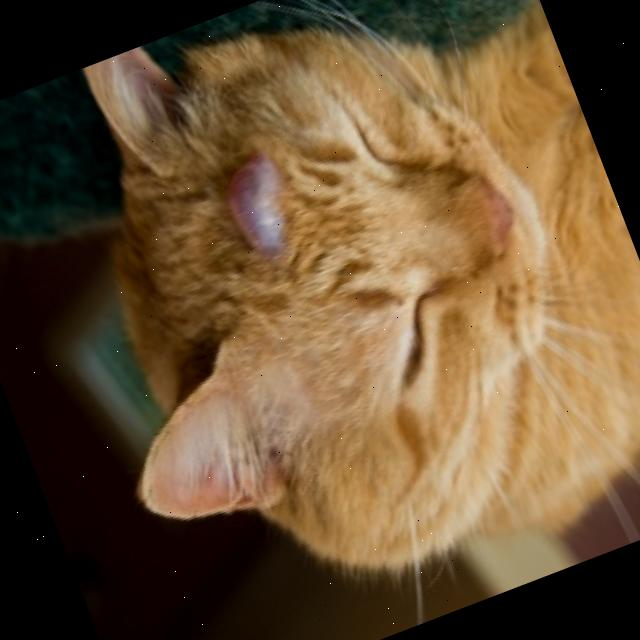cat-lump-and-bump: (206, 140, 314, 274)
